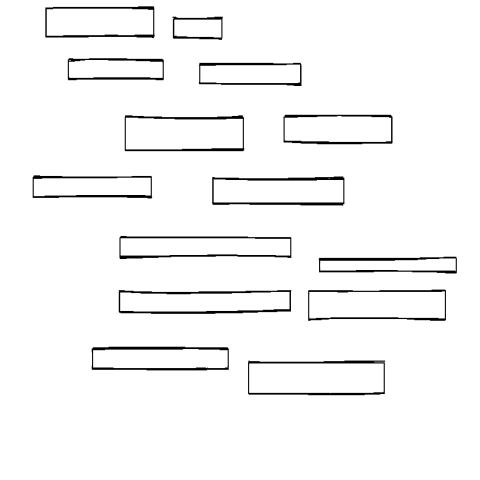Textbox: (248, 360, 386, 397), (308, 288, 448, 322), (119, 289, 292, 316), (125, 115, 246, 153), (119, 235, 292, 260), (212, 176, 346, 207), (45, 6, 156, 40), (92, 346, 230, 372), (283, 113, 394, 145), (33, 175, 153, 201), (320, 256, 459, 275), (200, 63, 303, 87), (67, 58, 165, 81), (173, 15, 224, 41)
